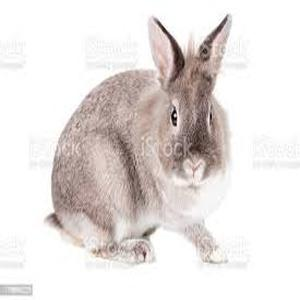rabbit: (45, 14, 230, 262)
